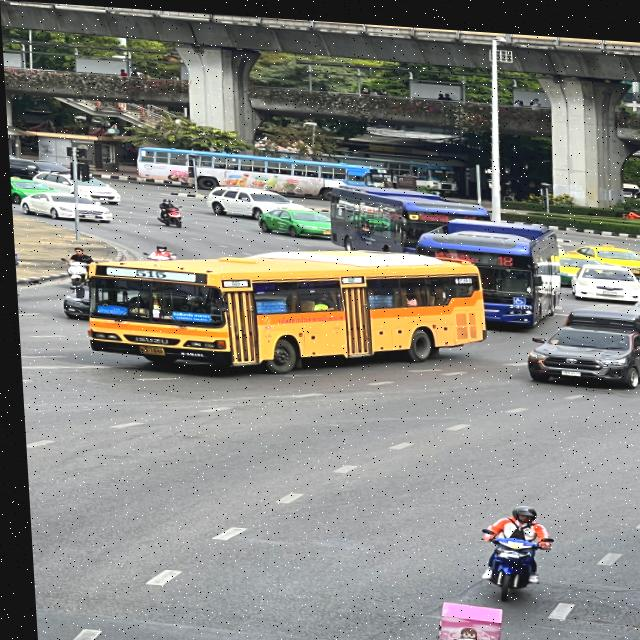BMTA-bus: (73, 229, 487, 384)
Bus-Line-Number: (126, 265, 169, 277), (491, 248, 515, 261)
Destination-Sign-Normal: (429, 243, 478, 256), (168, 308, 207, 321)
TSB-Bus: (413, 211, 560, 325), (323, 180, 490, 251)
